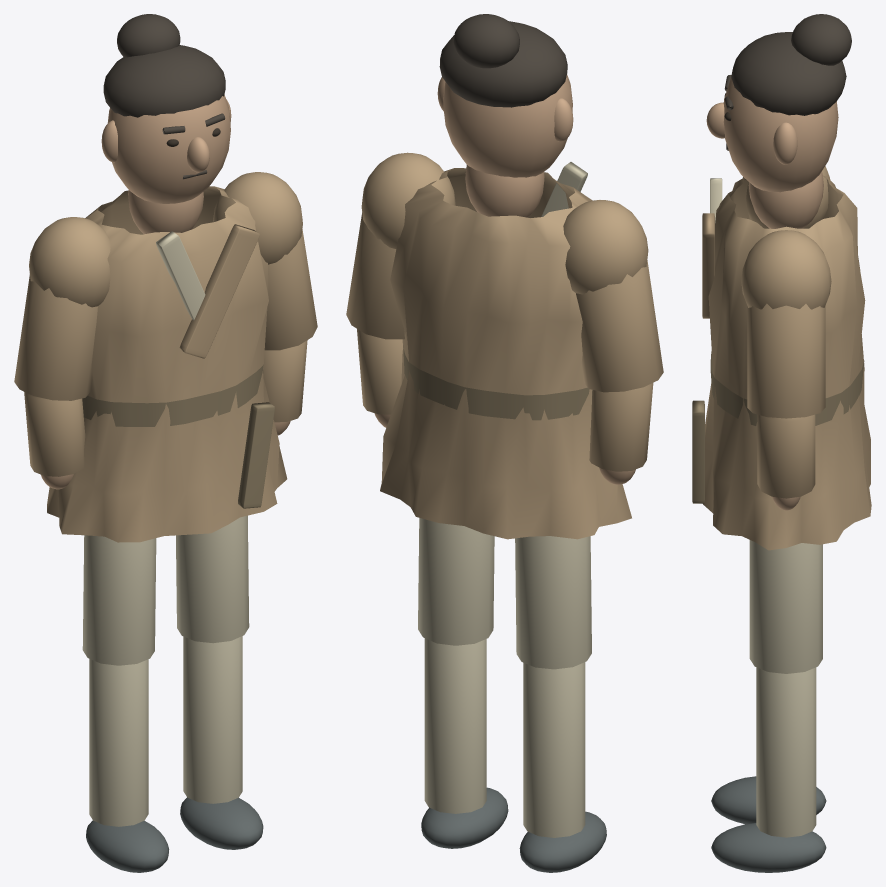
The model's file is child.glb.
3 views of the same model, side by side, from view 1: azimuth 30°, elevation 25°; view 2: azimuth 150°, elevation 25°; view 3: azimuth 270°, elevation 25° (orthographic). The views are drawn at different scales.
Visible parts, largest first — view 1: Cross-collar working coat.005, shin.010, shin.011, thigh.010, Face.005, thigh.011, upper.010, Hair crown.005, Shoulder.010, Shoulder.011, fore.010, upper.011 (+10 smaller); view 2: Cross-collar working coat.005, shin.010, shin.011, thigh.010, thigh.011, upper.010, Face.005, Hair crown.005, Shoulder.010, Shoulder.011, fore.010, upper.011 (+8 smaller); view 3: Cross-collar working coat.005, shin.011, thigh.011, upper.011, Face.005, Hair crown.005, Shoulder.011, fore.011, Cloth shoe.011, Neck.005, Tied hair bun.001, Cloth shoe.010 (+7 smaller).
Boxes of the visible parts, bbox=[...] form: Cross-collar working coat.005: bbox=[47, 186, 287, 542]; shin.010: bbox=[89, 659, 148, 826]; shin.011: bbox=[183, 636, 242, 803]; thigh.010: bbox=[82, 535, 156, 665]; Face.005: bbox=[107, 94, 230, 203]; thigh.011: bbox=[176, 515, 249, 643]; upper.010: bbox=[14, 274, 97, 400]; Hair crown.005: bbox=[103, 45, 225, 117]; Shoulder.010: bbox=[29, 217, 110, 307]; Shoulder.011: bbox=[213, 172, 302, 264]; fore.010: bbox=[24, 391, 85, 476]; upper.011: bbox=[264, 229, 317, 350]; Cross-collar working coat.005: bbox=[380, 168, 631, 539]; shin.010: bbox=[523, 662, 585, 837]; shin.011: bbox=[424, 638, 486, 813]; thigh.010: bbox=[515, 536, 591, 669]; thigh.011: bbox=[418, 518, 494, 645]; upper.010: bbox=[576, 260, 663, 392]; Face.005: bbox=[443, 74, 572, 177]; Hair crown.005: bbox=[439, 21, 567, 107]; Shoulder.010: bbox=[563, 200, 648, 294]; Shoulder.011: bbox=[361, 152, 455, 248]; fore.010: bbox=[589, 383, 653, 471]; upper.011: bbox=[346, 212, 404, 339]; Cross-collar working coat.005: bbox=[703, 175, 871, 550]; shin.011: bbox=[756, 667, 816, 837]; thigh.011: bbox=[749, 540, 822, 673]; upper.011: bbox=[747, 303, 825, 418]; Face.005: bbox=[723, 78, 838, 192]; Hair crown.005: bbox=[731, 32, 846, 115]; Shoulder.011: bbox=[741, 230, 831, 309]; fore.011: bbox=[757, 414, 815, 498]; Cloth shoe.011: bbox=[711, 823, 826, 872]; Neck.005: bbox=[748, 171, 823, 228]; Tied hair bun.001: bbox=[791, 14, 851, 65]; Cloth shoe.010: bbox=[711, 776, 826, 824].
Bounding box in the file's own units: 0.6841 × 1.82 × 0.3575.
